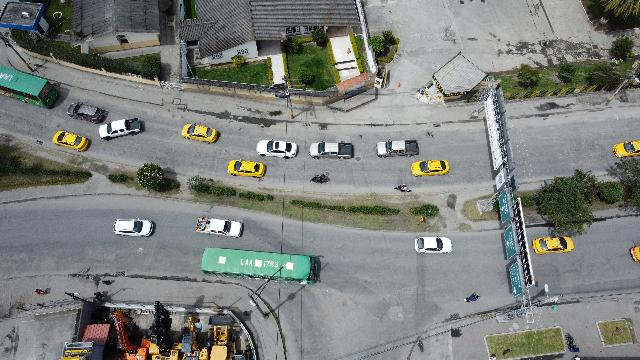Vehiculo: (98, 118, 142, 140), (196, 218, 244, 238), (68, 102, 109, 124), (310, 141, 354, 161), (228, 159, 266, 181), (53, 130, 89, 152), (532, 236, 574, 254), (256, 140, 298, 158), (376, 140, 418, 158), (182, 124, 218, 144), (114, 218, 154, 236), (415, 236, 453, 254), (411, 160, 449, 176), (612, 140, 640, 158), (630, 246, 640, 262)
